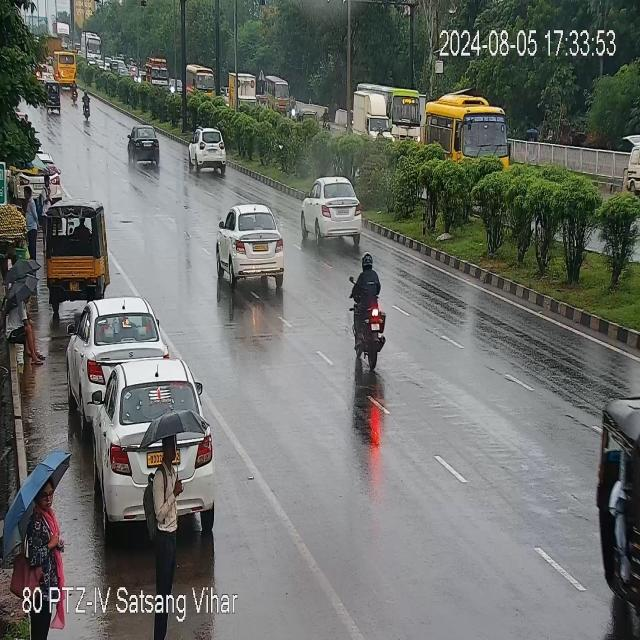2-wheelers: (343, 254, 386, 371), (81, 90, 92, 124), (70, 78, 78, 107)
auto: (593, 374, 639, 640), (426, 89, 516, 170), (43, 202, 108, 308), (46, 80, 62, 114)
bus: (353, 88, 422, 148), (56, 52, 78, 84)
car: (90, 362, 210, 488), (72, 298, 162, 402), (215, 201, 285, 288), (303, 176, 365, 246), (188, 128, 227, 173), (127, 126, 161, 169)
pedestrian: (146, 432, 184, 600), (24, 477, 64, 635), (1, 290, 45, 375), (23, 180, 40, 258), (40, 174, 52, 213)
truck: (354, 93, 391, 147)
